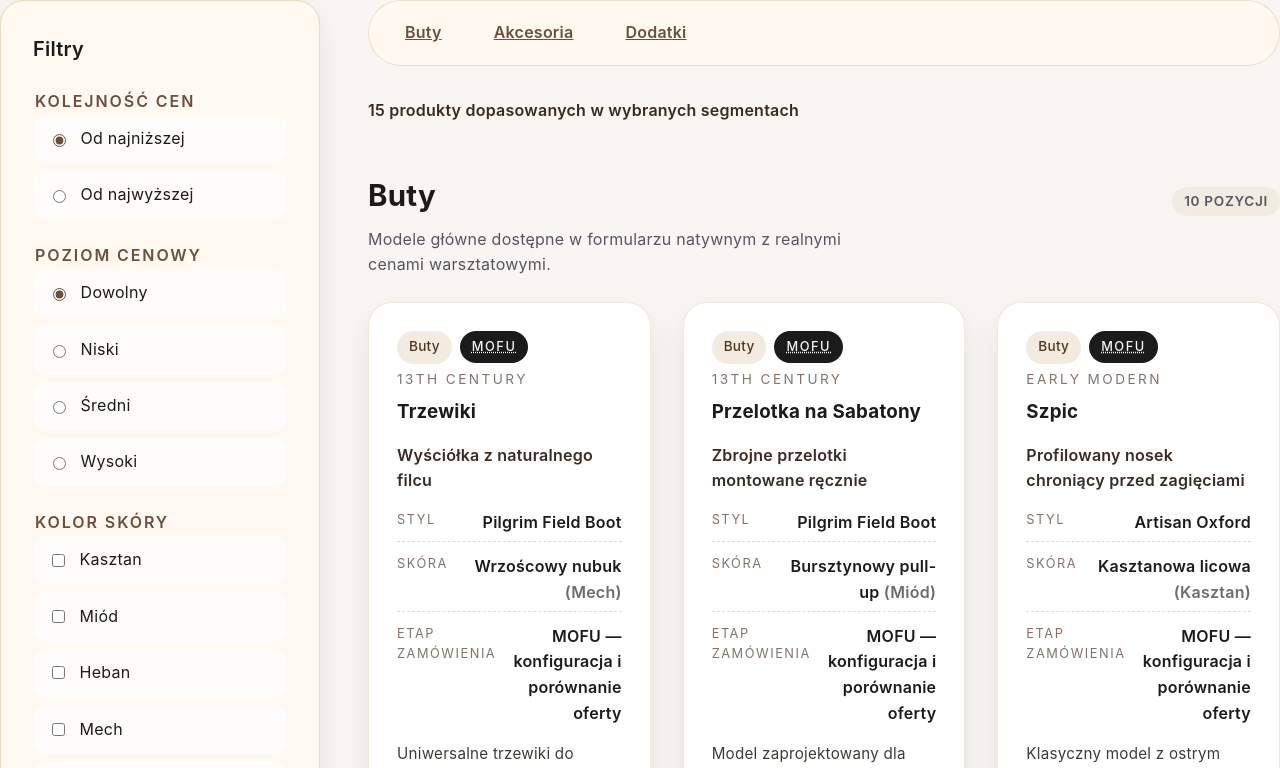
CatalogExplorer › filters products by price tier
Step 1. Click the radio button labelled "Wysoki" → [59, 464], box [53, 457, 66, 470]
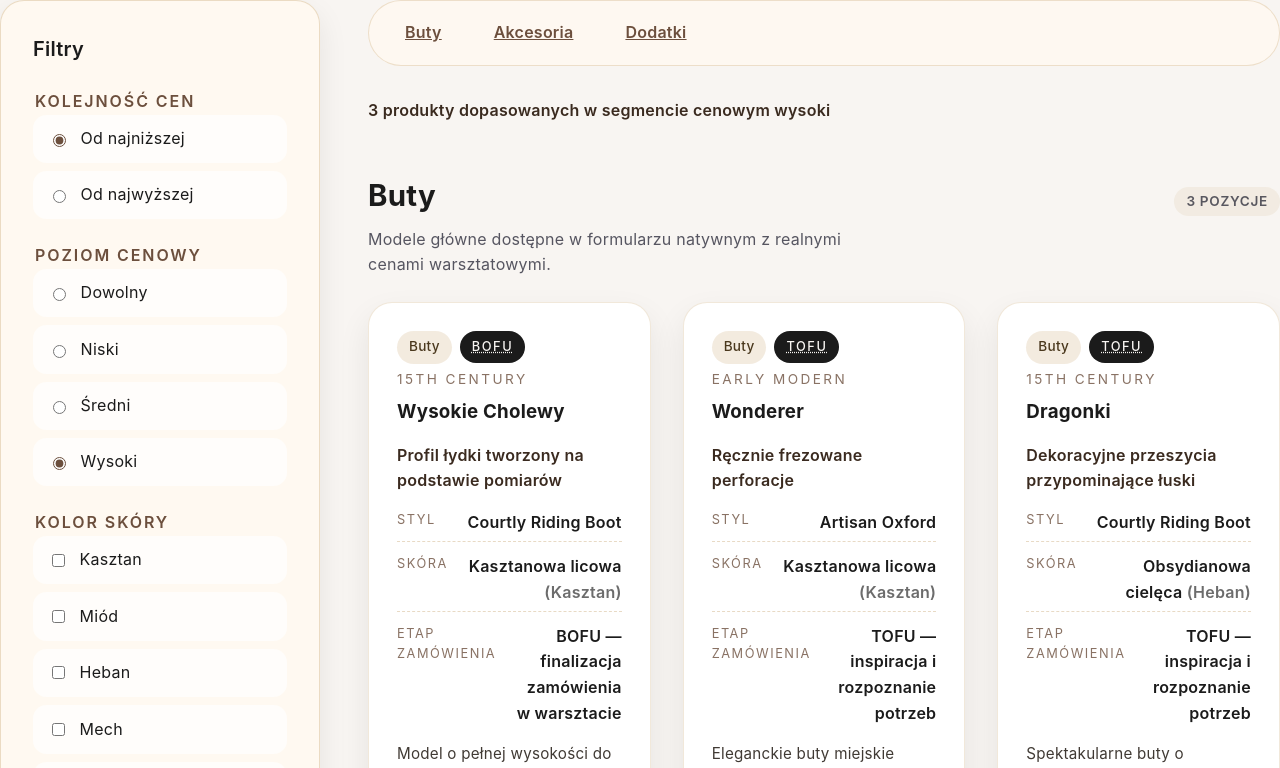
Expected: the heading "Dragonki" is shown, [1026, 400, 1111, 423]
Now the heading "Szpic" is gone
